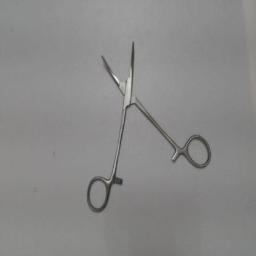Crile Artery Forceps: (82, 37, 214, 217)
